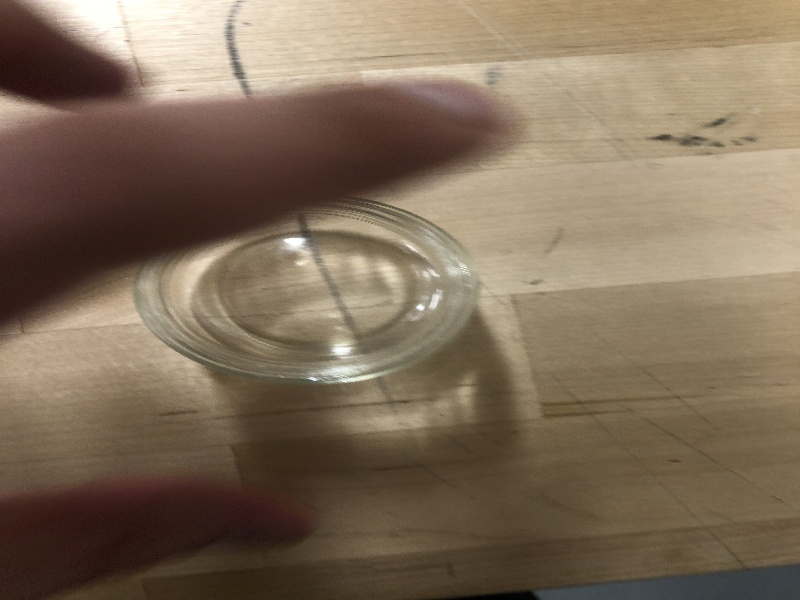glass: (122, 172, 484, 390)
